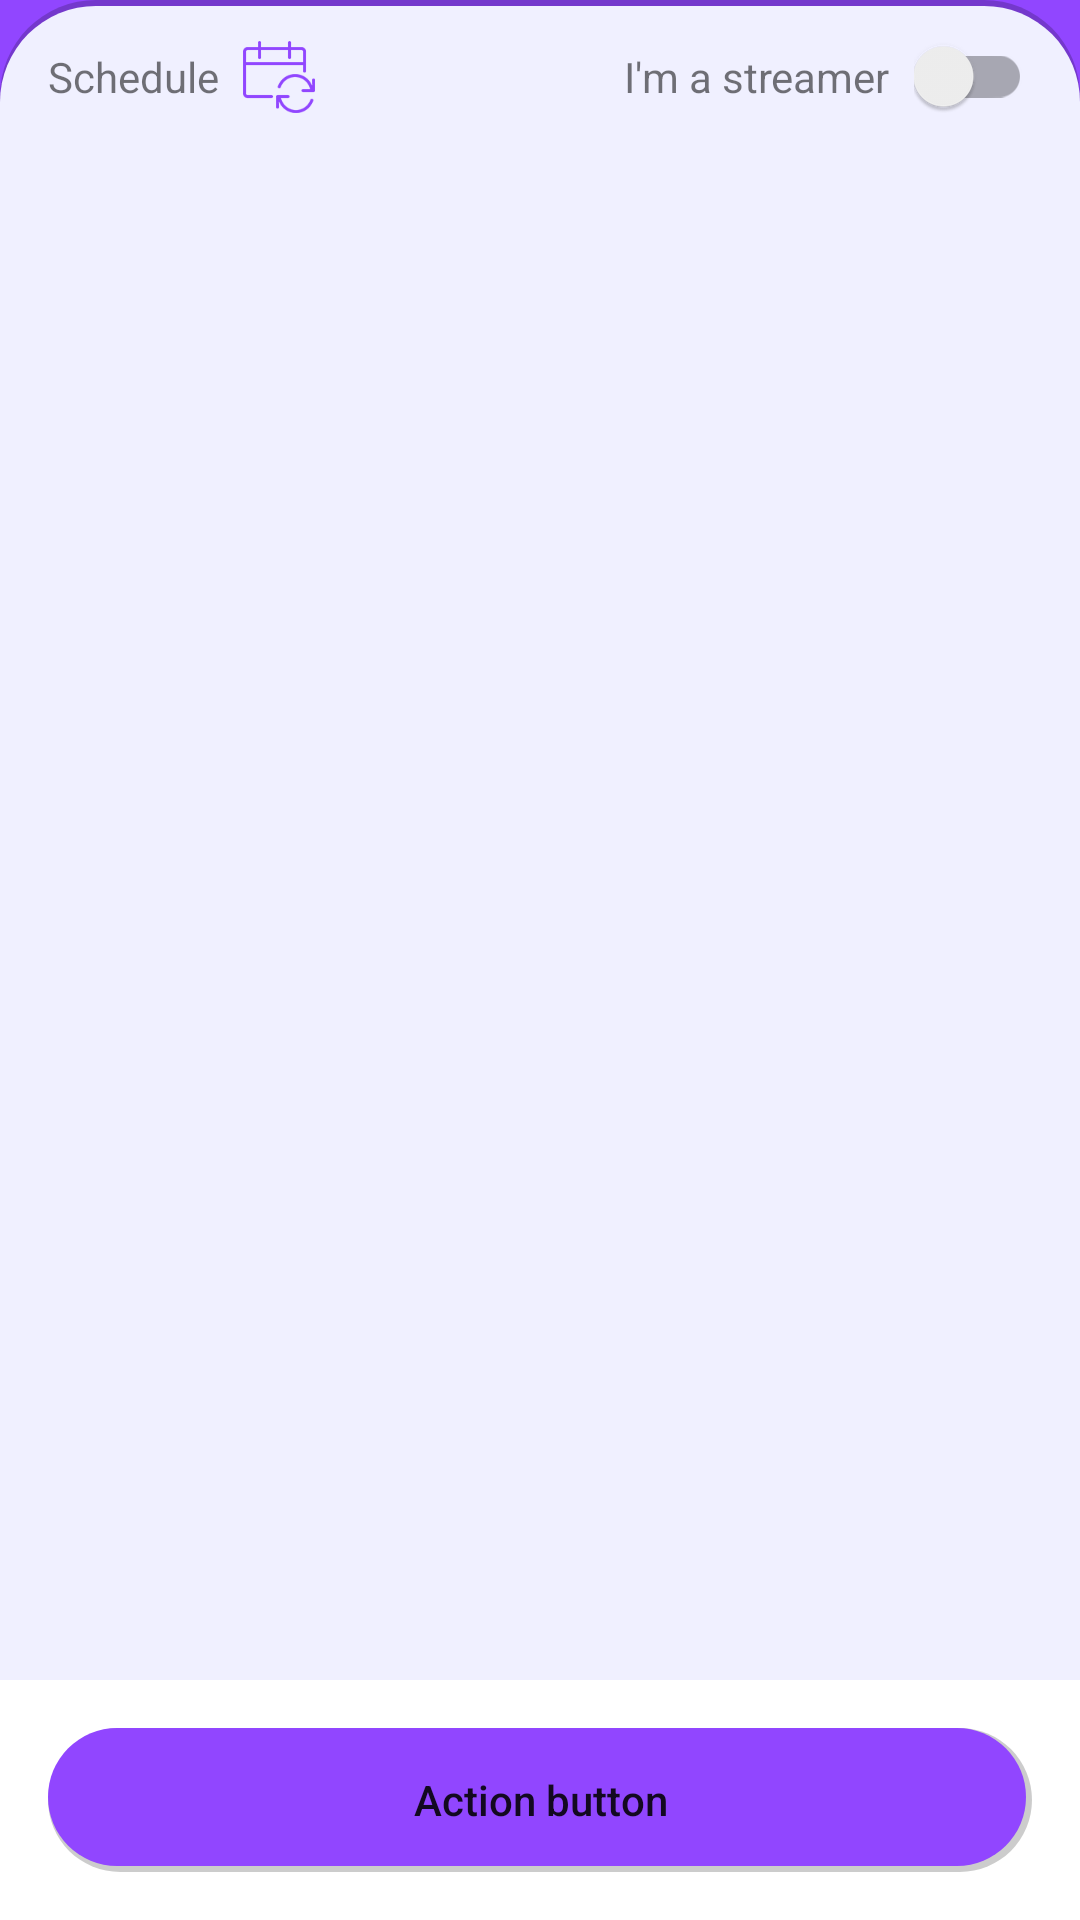

Where icons sit on this 1080px×1920px app screen, as (x1=x1, y1=y1, x2=x2, y2=y2):
calendar refresh: (x1=243, y1=41, x2=315, y2=113)
